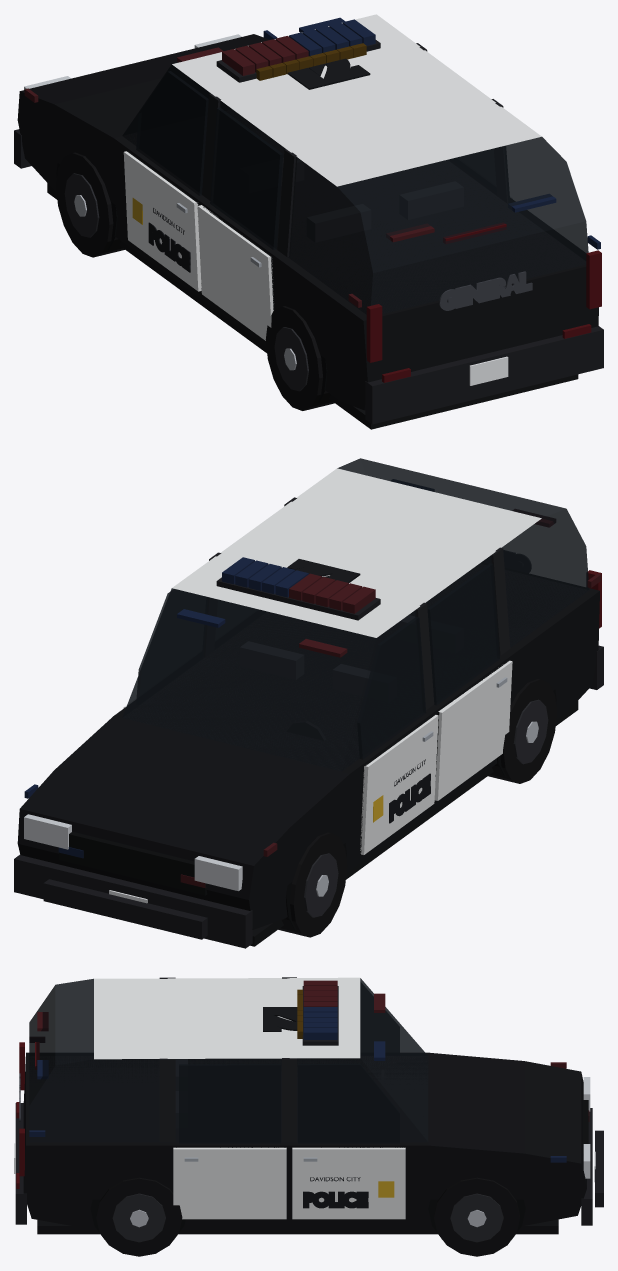
Rendered from patrol_suv.glb.
3 views of the same model, one above another, from view 1: azimuth 30°, elevation 25°; view 2: azimuth 150°, elevation 25°; view 3: azimuth 270°, elevation 25° (orthographic). The views are drawn at different scales.
Parts seen in each view (by area): view 1: Body, Door_RL, Door_FL, Wheel_FL, Wheel_RL, Interior, Decal_Tailgate, Decal_Roof, Taillight_L, Taillight_R, Decal_Police_FL, Plate_Rear (+1 smaller); view 2: Body, Door_RL, Door_FL, Wheel_FL, Wheel_RL, Interior, Headlight_L, Headlight_R, LightBar_Housing, Decal_Police_FL, Decal_Roof; view 3: Body, Door_RR, Door_FR, Wheel_FR, Wheel_RR, Decal_Police_FR, Decal_Roof, ELS_CELL_9, LightBar_Housing.
Boxes of the visible parts, x1,y1,x2,y2 form: Body: [14, 14, 603, 429]; Door_RL: [197, 107, 283, 340]; Door_FL: [123, 71, 208, 291]; Wheel_FL: [56, 152, 124, 257]; Wheel_RL: [265, 306, 334, 410]; Interior: [281, 158, 463, 242]; Decal_Tailgate: [439, 271, 532, 310]; Decal_Roof: [287, 58, 370, 89]; Taillight_L: [366, 304, 382, 362]; Taillight_R: [586, 250, 601, 309]; Decal_Police_FL: [148, 222, 190, 272]; Plate_Rear: [469, 356, 508, 385]; Body: [14, 458, 603, 948]; Door_RL: [427, 563, 512, 800]; Door_FL: [357, 616, 438, 854]; Wheel_FL: [278, 832, 347, 937]; Wheel_RL: [488, 679, 556, 783]; Interior: [240, 615, 414, 740]; Headlight_L: [194, 856, 242, 891]; Headlight_R: [24, 814, 71, 849]; LightBar_Housing: [216, 577, 380, 620]; Decal_Police_FL: [389, 773, 430, 823]; Decal_Roof: [287, 559, 360, 582]; Body: [15, 977, 603, 1239]; Door_RR: [173, 1064, 286, 1219]; Door_FR: [292, 1063, 405, 1219]; Wheel_FR: [434, 1177, 519, 1256]; Wheel_RR: [96, 1177, 182, 1256]; Decal_Police_FR: [303, 1191, 368, 1208]; Decal_Roof: [263, 1007, 297, 1031]; ELS_CELL_9: [303, 1028, 337, 1039]; LightBar_Housing: [302, 986, 338, 1045].
Size of the model in its own units: 2.04 by 1.98 by 5.21.
